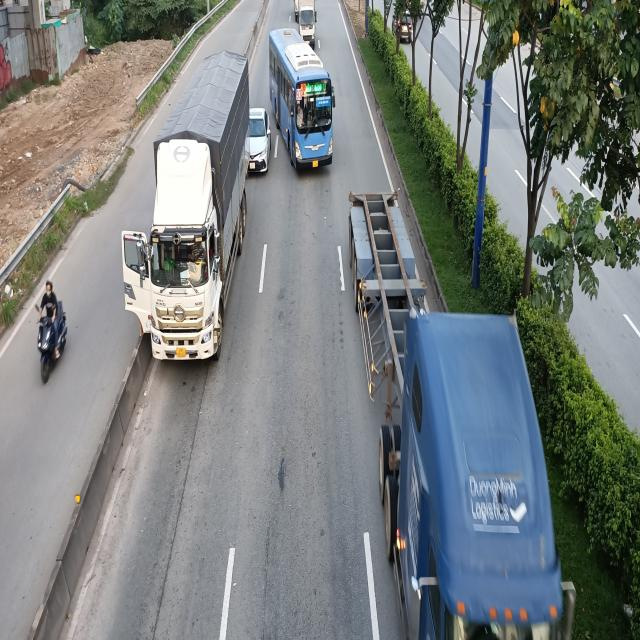car: (247, 106, 272, 176)
coach: (268, 28, 334, 170)
container: (347, 192, 574, 640)
truck: (141, 51, 250, 366), (298, 0, 316, 40)
